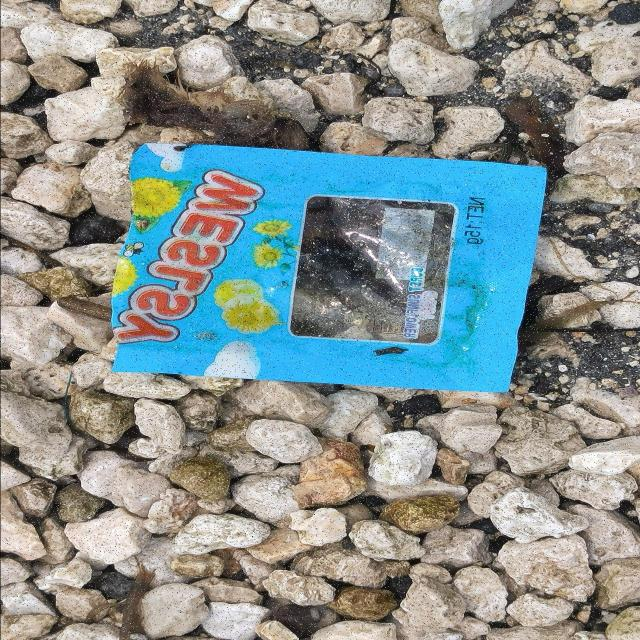plastic_waste: (111, 144, 547, 394)
